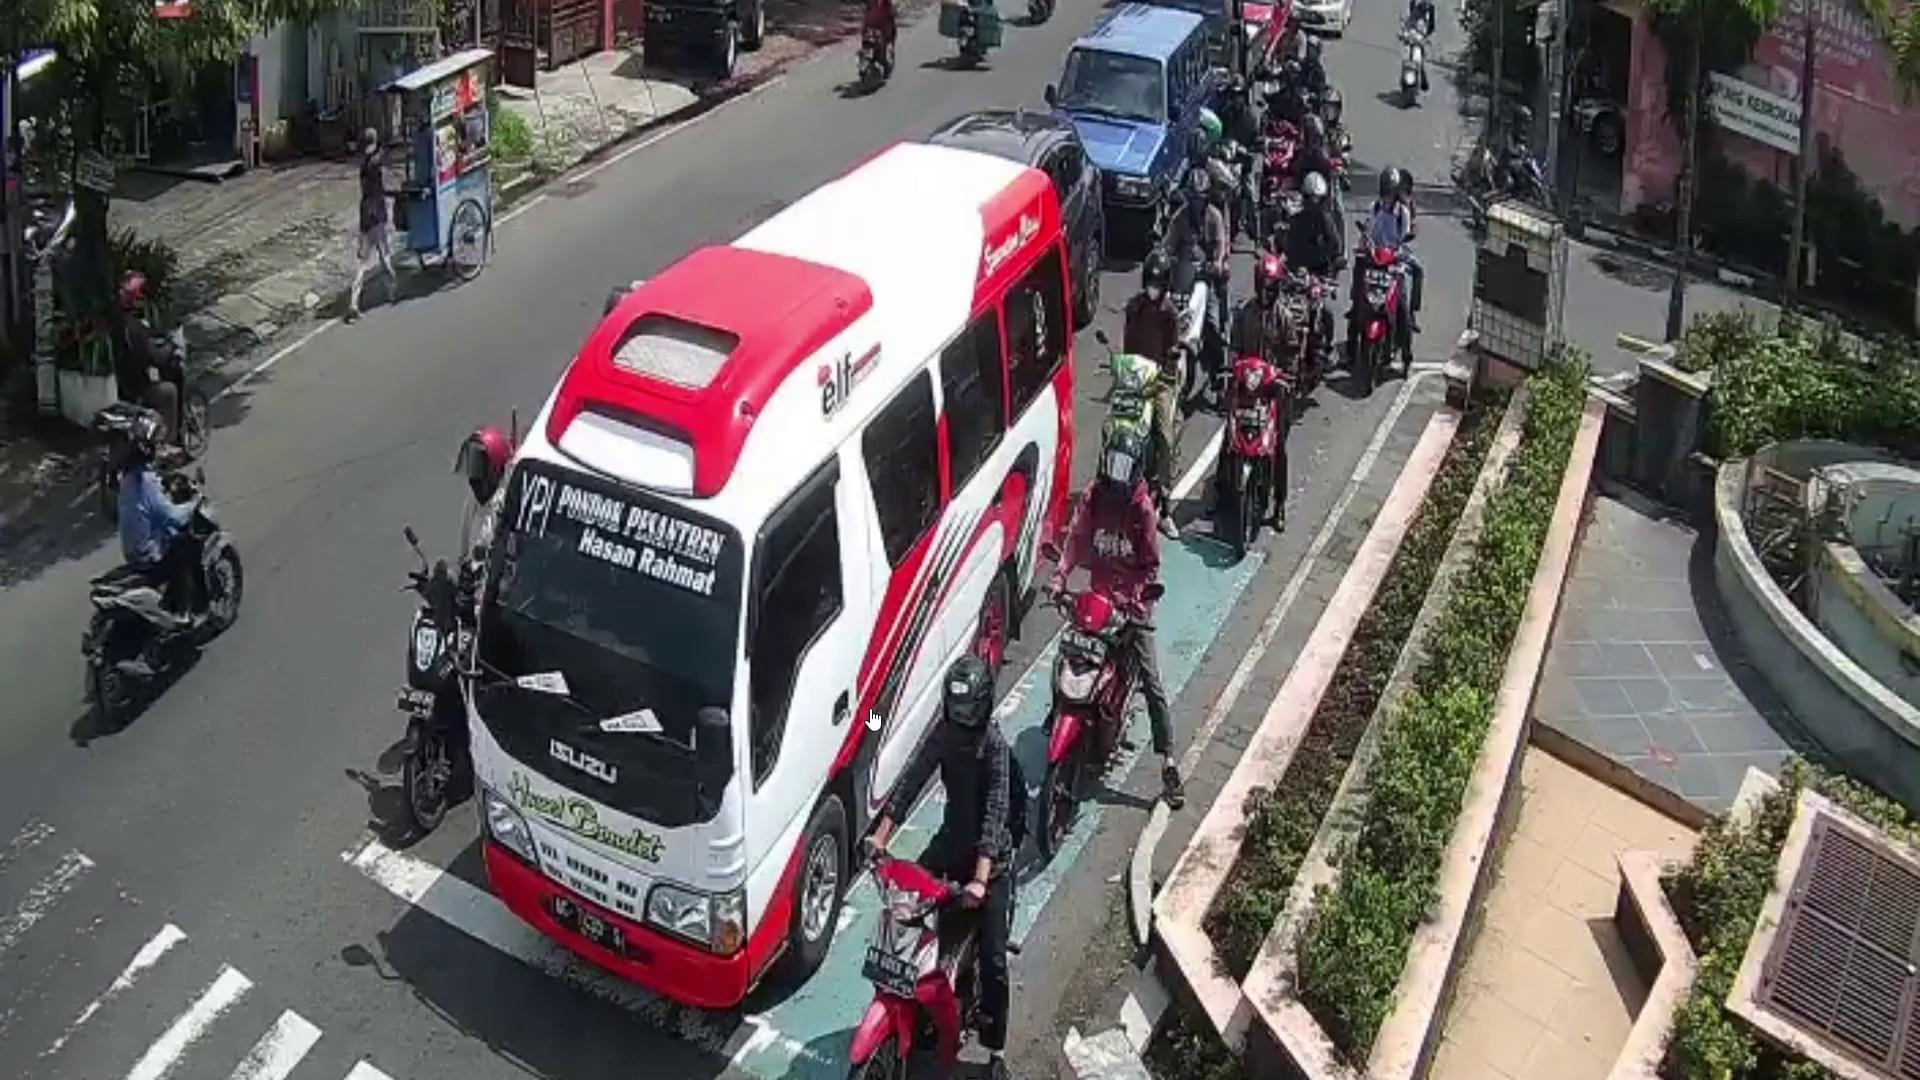bus: (471, 138, 1073, 1002)
car: (1052, 0, 1221, 244), (938, 105, 1110, 310)
motorbike: (80, 467, 245, 732), (856, 847, 997, 1080), (1047, 585, 1138, 848), (401, 580, 477, 829), (103, 339, 212, 501), (1089, 353, 1170, 526), (1228, 365, 1280, 555), (1461, 145, 1551, 228), (1354, 241, 1402, 384)
